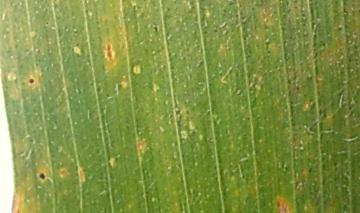tarspot: (37, 169, 48, 184), (25, 75, 38, 87)
